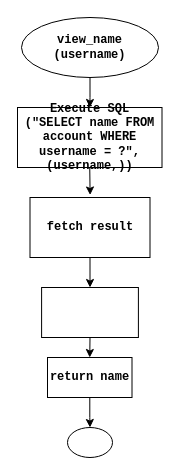
This 180x475 diagram has some shape labels left out. Each missing label, with the centre of its shape:
"exit" goes at [89,442].
"name = result[0]" goes at [89,312].
